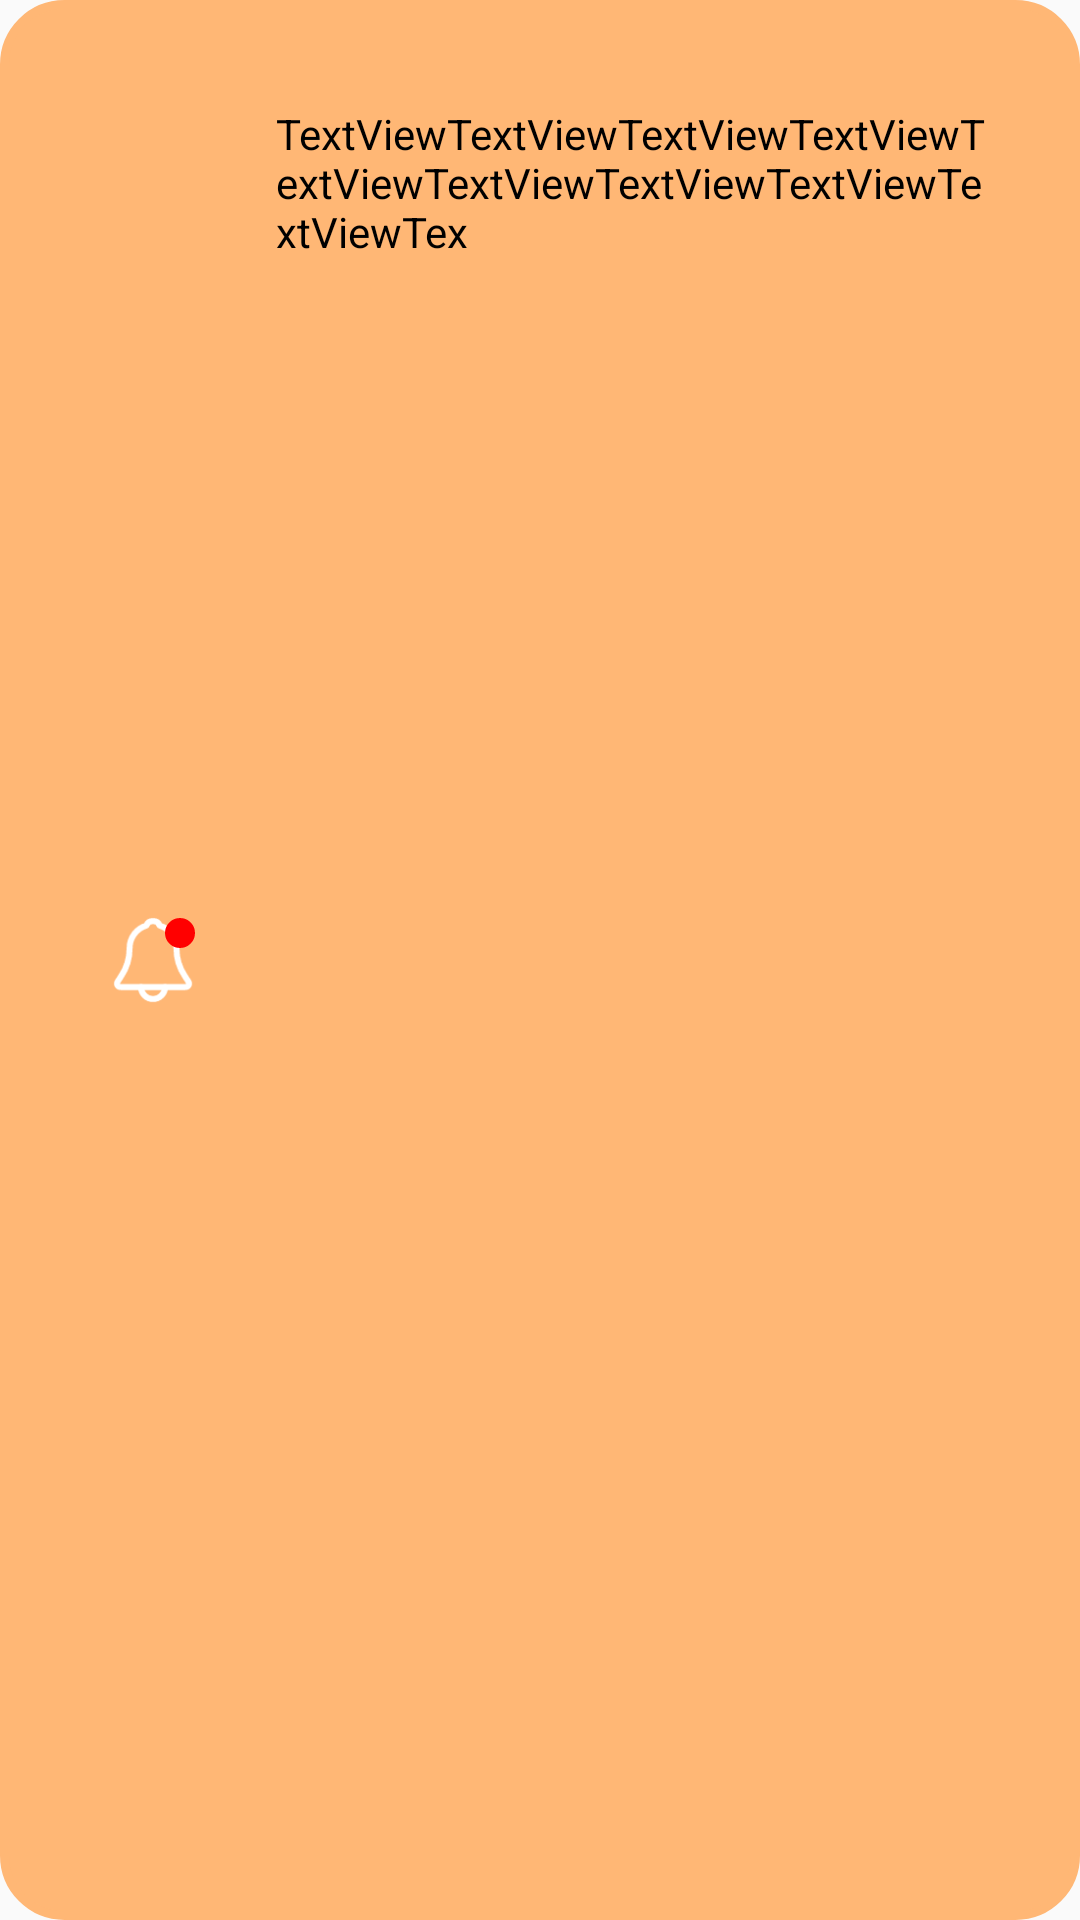

Icons on this 1080x1920 Android screen, each with the point to tap as point (x, y):
notification: point (154, 960)
